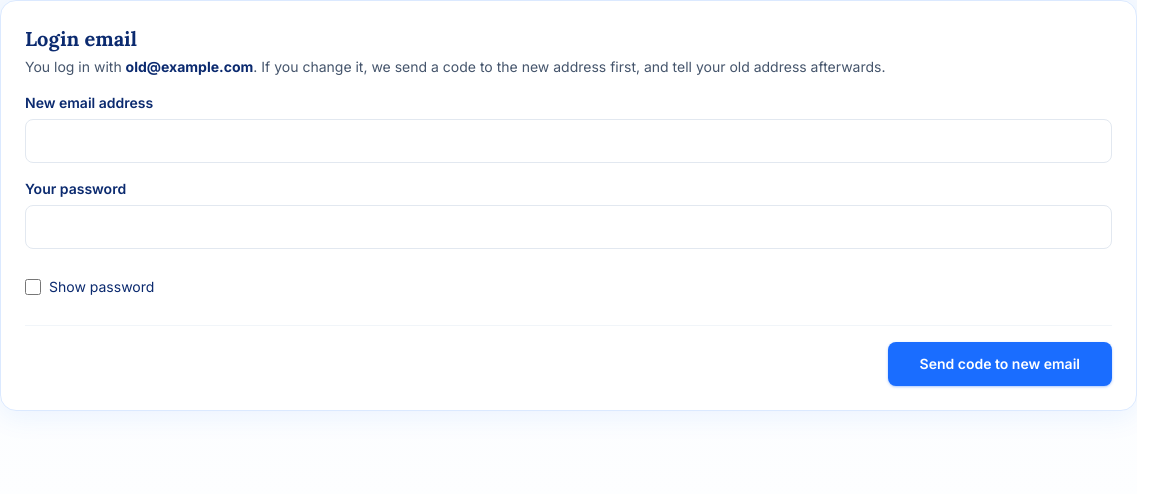
Test case: changing the login email › shows the server message for a wrong password or taken address, and keeps the form
The width and height of the screenshot is (1152, 494).
Step 1. Type "new@example.com" into the field labelled "New email address" → (568, 141), box [25,119,1112,163]
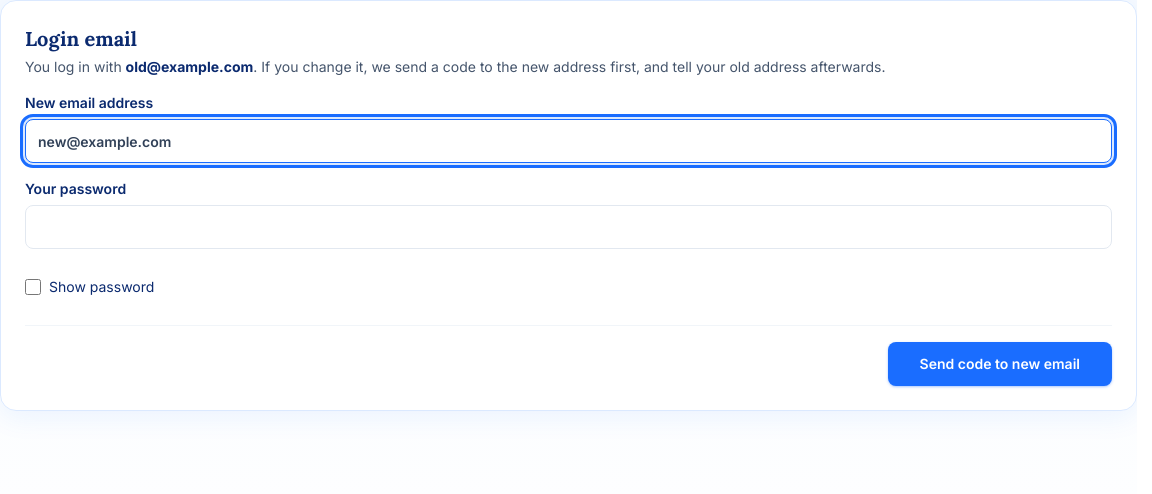
Step 2. Type "nope" into the password field labelled "Your password" → (568, 227), box [25,205,1112,249]
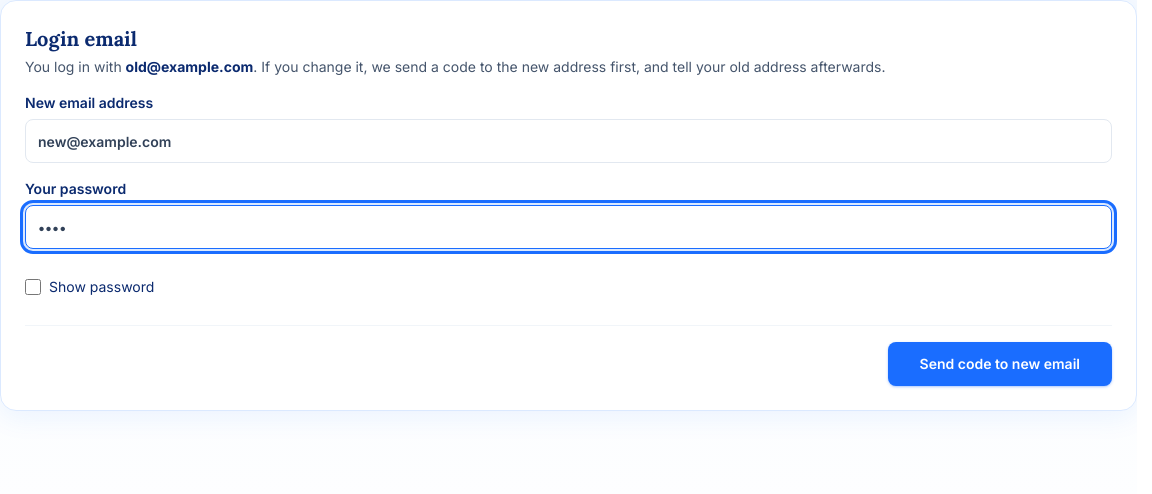
Step 3. Click the button "Send code to new email" → (1000, 364), box [888,342,1112,386]
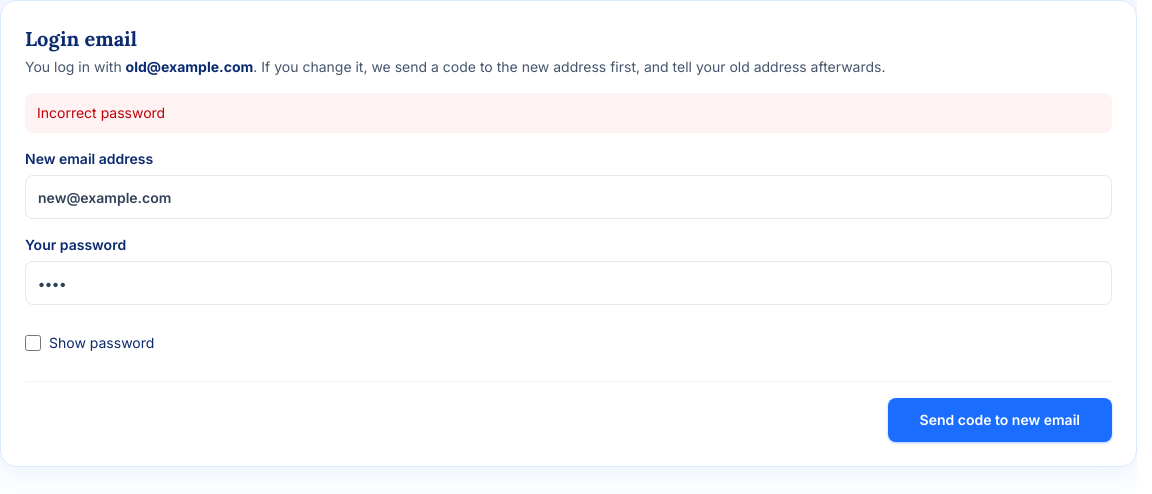
Expected: the text "Incorrect password" is shown, [25,93,1112,133]
